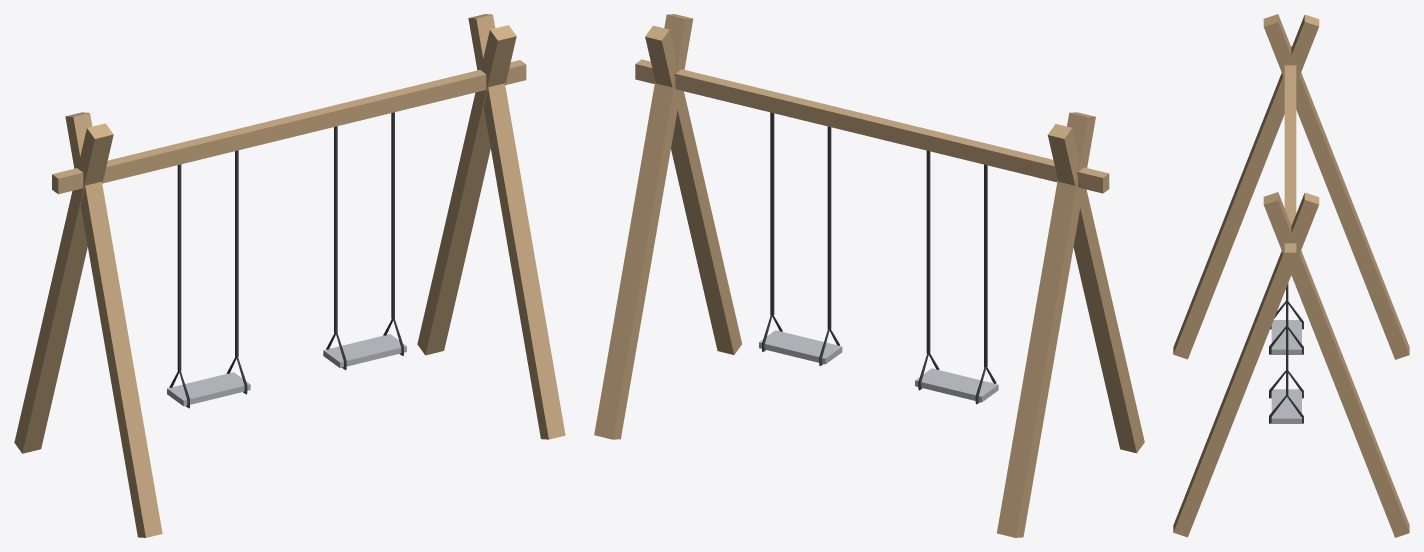
Rendered from SM_swing.fbx.
3 views of the same model, side by side, from view 1: azimuth 30°, elevation 25°; view 2: azimuth 150°, elevation 25°; view 3: azimuth 270°, elevation 25° (orthographic). The views are drawn at different scales.
Parts seen in each view (by area): view 1: Box5738; view 2: Box5738; view 3: Box5738.
Part boxes in pixels (left/top/right/bottom): Box5738: left=14, top=14, right=565, bottom=537; Box5738: left=594, top=14, right=1144, bottom=537; Box5738: left=1173, top=14, right=1409, bottom=537.
Bounding box in the file's own units: 171 × 130 × 82.38.
